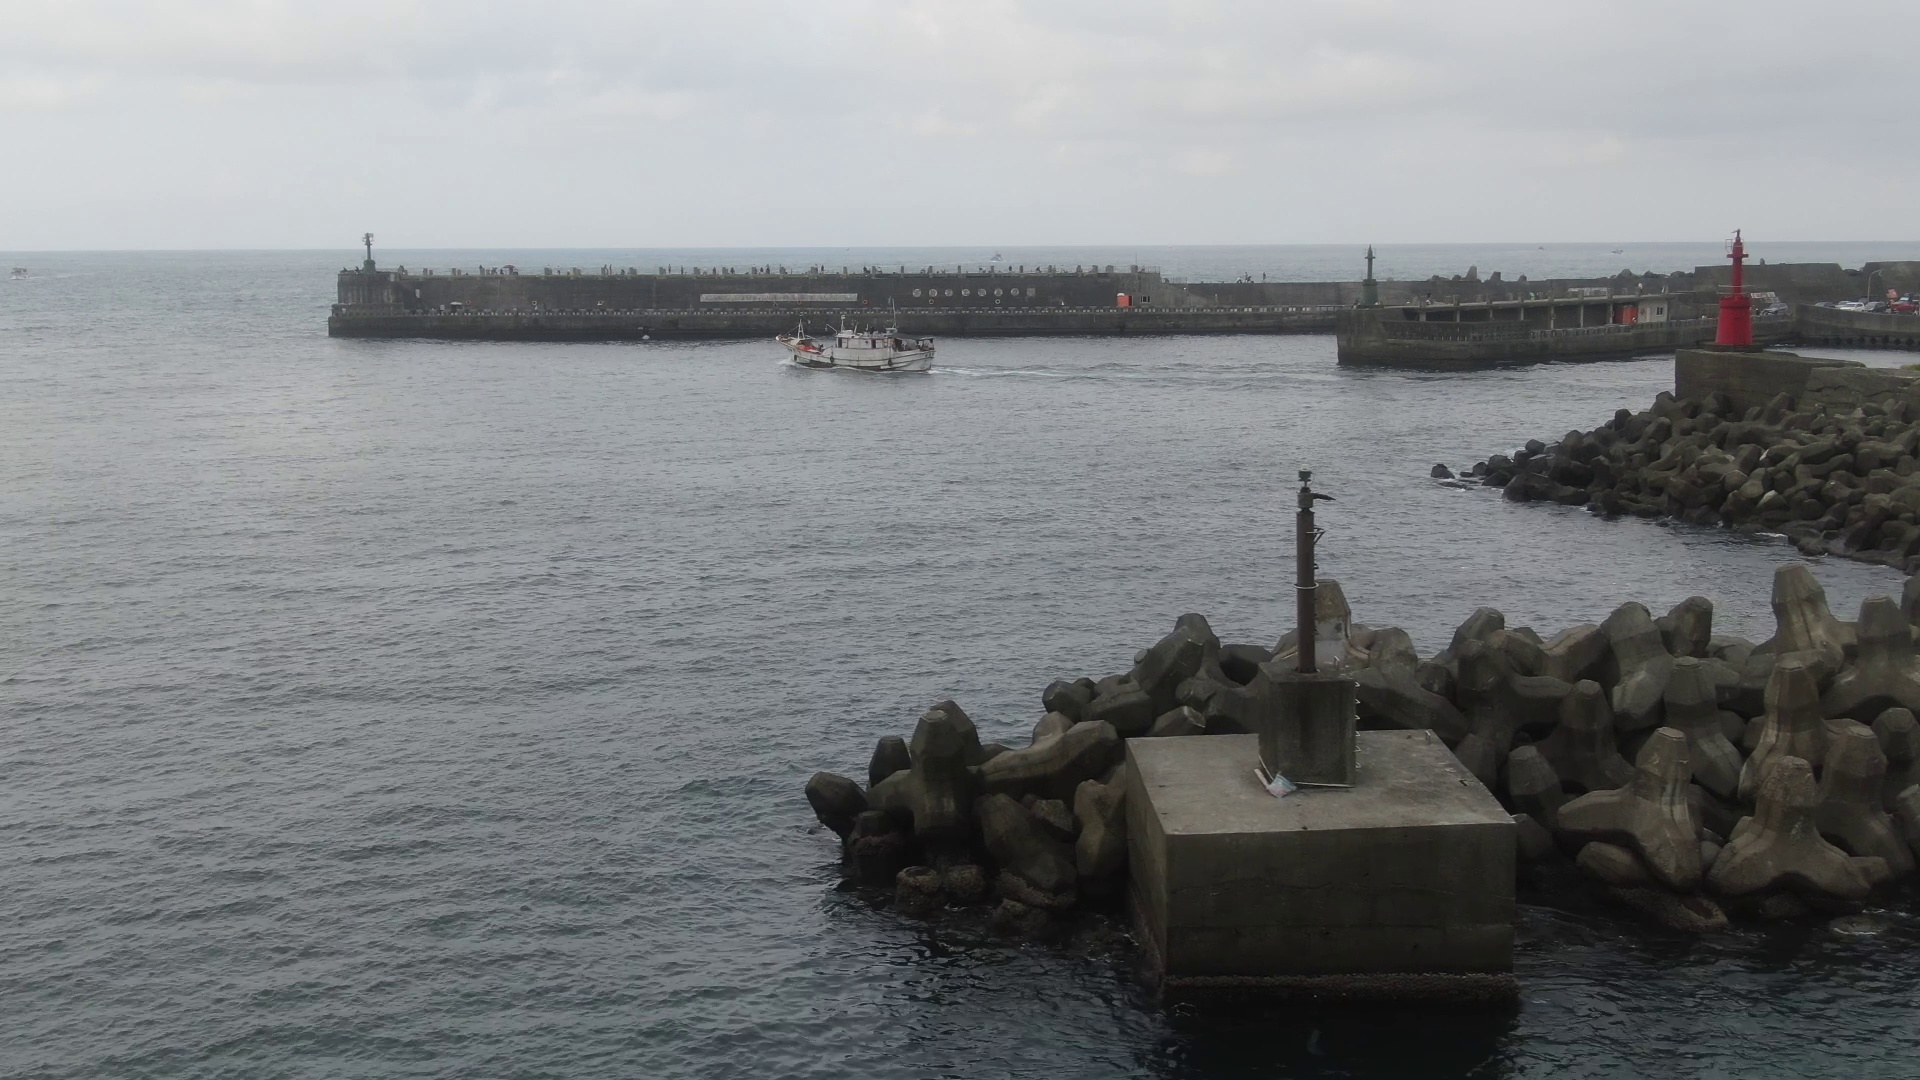garbage: (1246, 752, 1307, 808)
